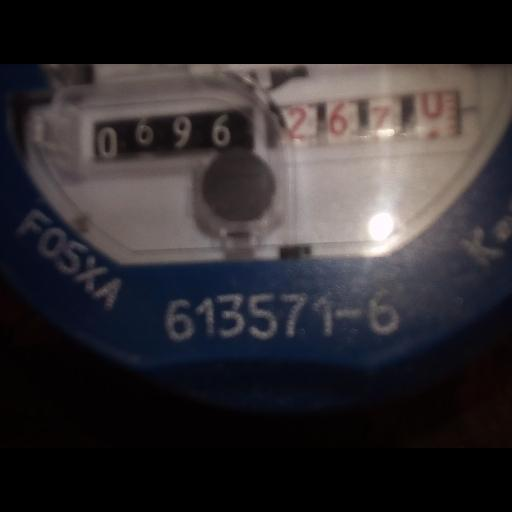0: (411, 93, 453, 139), (93, 120, 126, 163)
2: (281, 104, 322, 151)
6: (204, 110, 243, 156), (325, 101, 363, 146), (129, 117, 165, 162)
7: (367, 98, 406, 143)
9: (166, 113, 203, 159)
border_water_meter_number: (75, 83, 482, 177)
